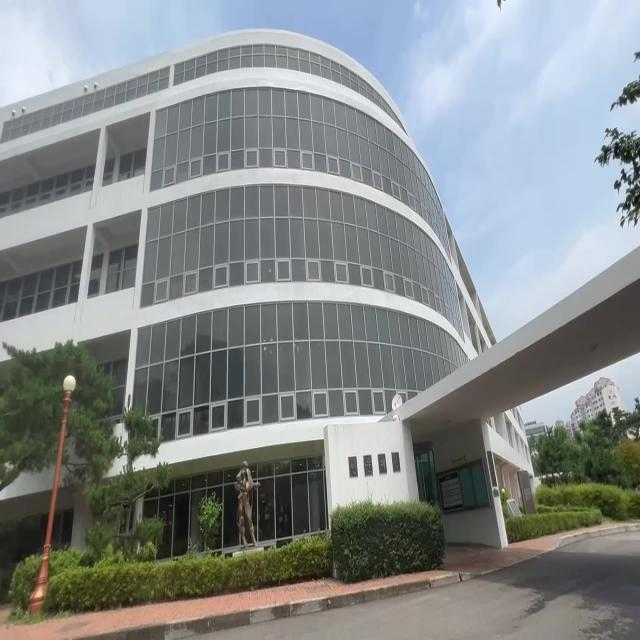building: (138, 46, 436, 464)
